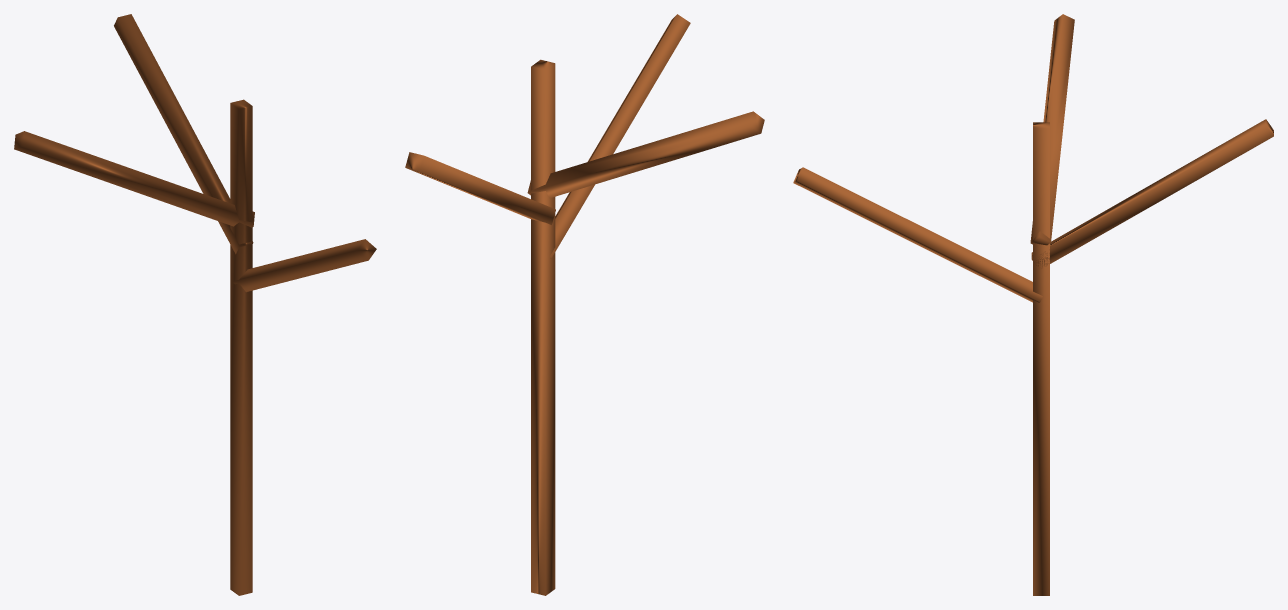
Rendered from Modf1.fbx.
3 views of the same model, side by side, from view 1: azimuth 30°, elevation 25°; view 2: azimuth 150°, elevation 25°; view 3: azimuth 270°, elevation 25° (orthographic). The views are drawn at different scales.
Parts seen in each view (by area): view 1: Cube.002; view 2: Cube.002; view 3: Cube.002.
Boxes of the visible parts, left/top/right/bottom form: Cube.002: left=14, top=14, right=376, bottom=595; Cube.002: left=405, top=14, right=764, bottom=595; Cube.002: left=793, top=14, right=1273, bottom=595.
Size of the model in its own units: 40.62 by 85.83 by 77.53.
